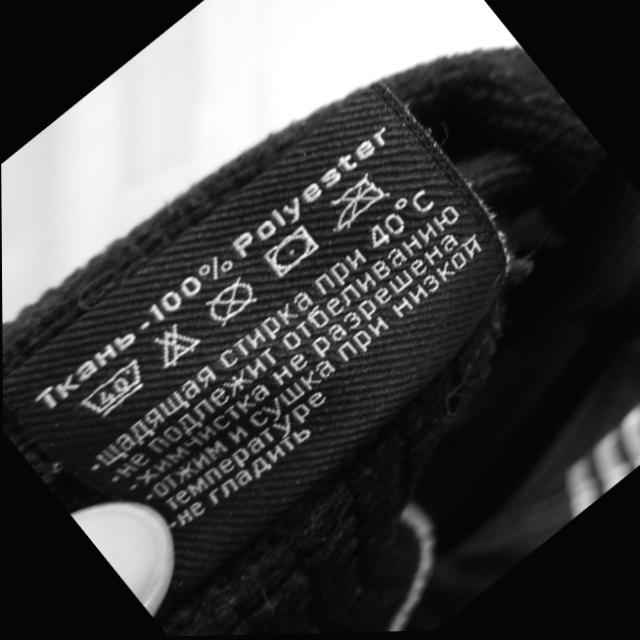40C: (82, 360, 150, 423)
DN_bleach: (156, 324, 203, 373)
DN_dry_clean: (208, 279, 261, 328)
DN_iron: (327, 174, 392, 231)
tumble_dry_low: (265, 227, 327, 279)
